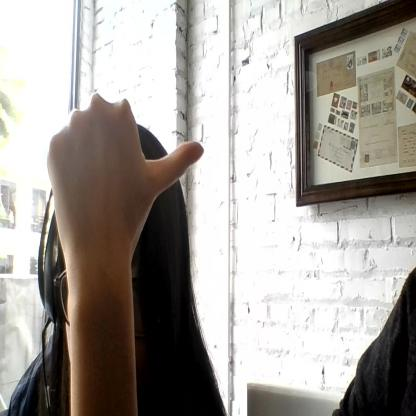left: (47, 92, 205, 252)
